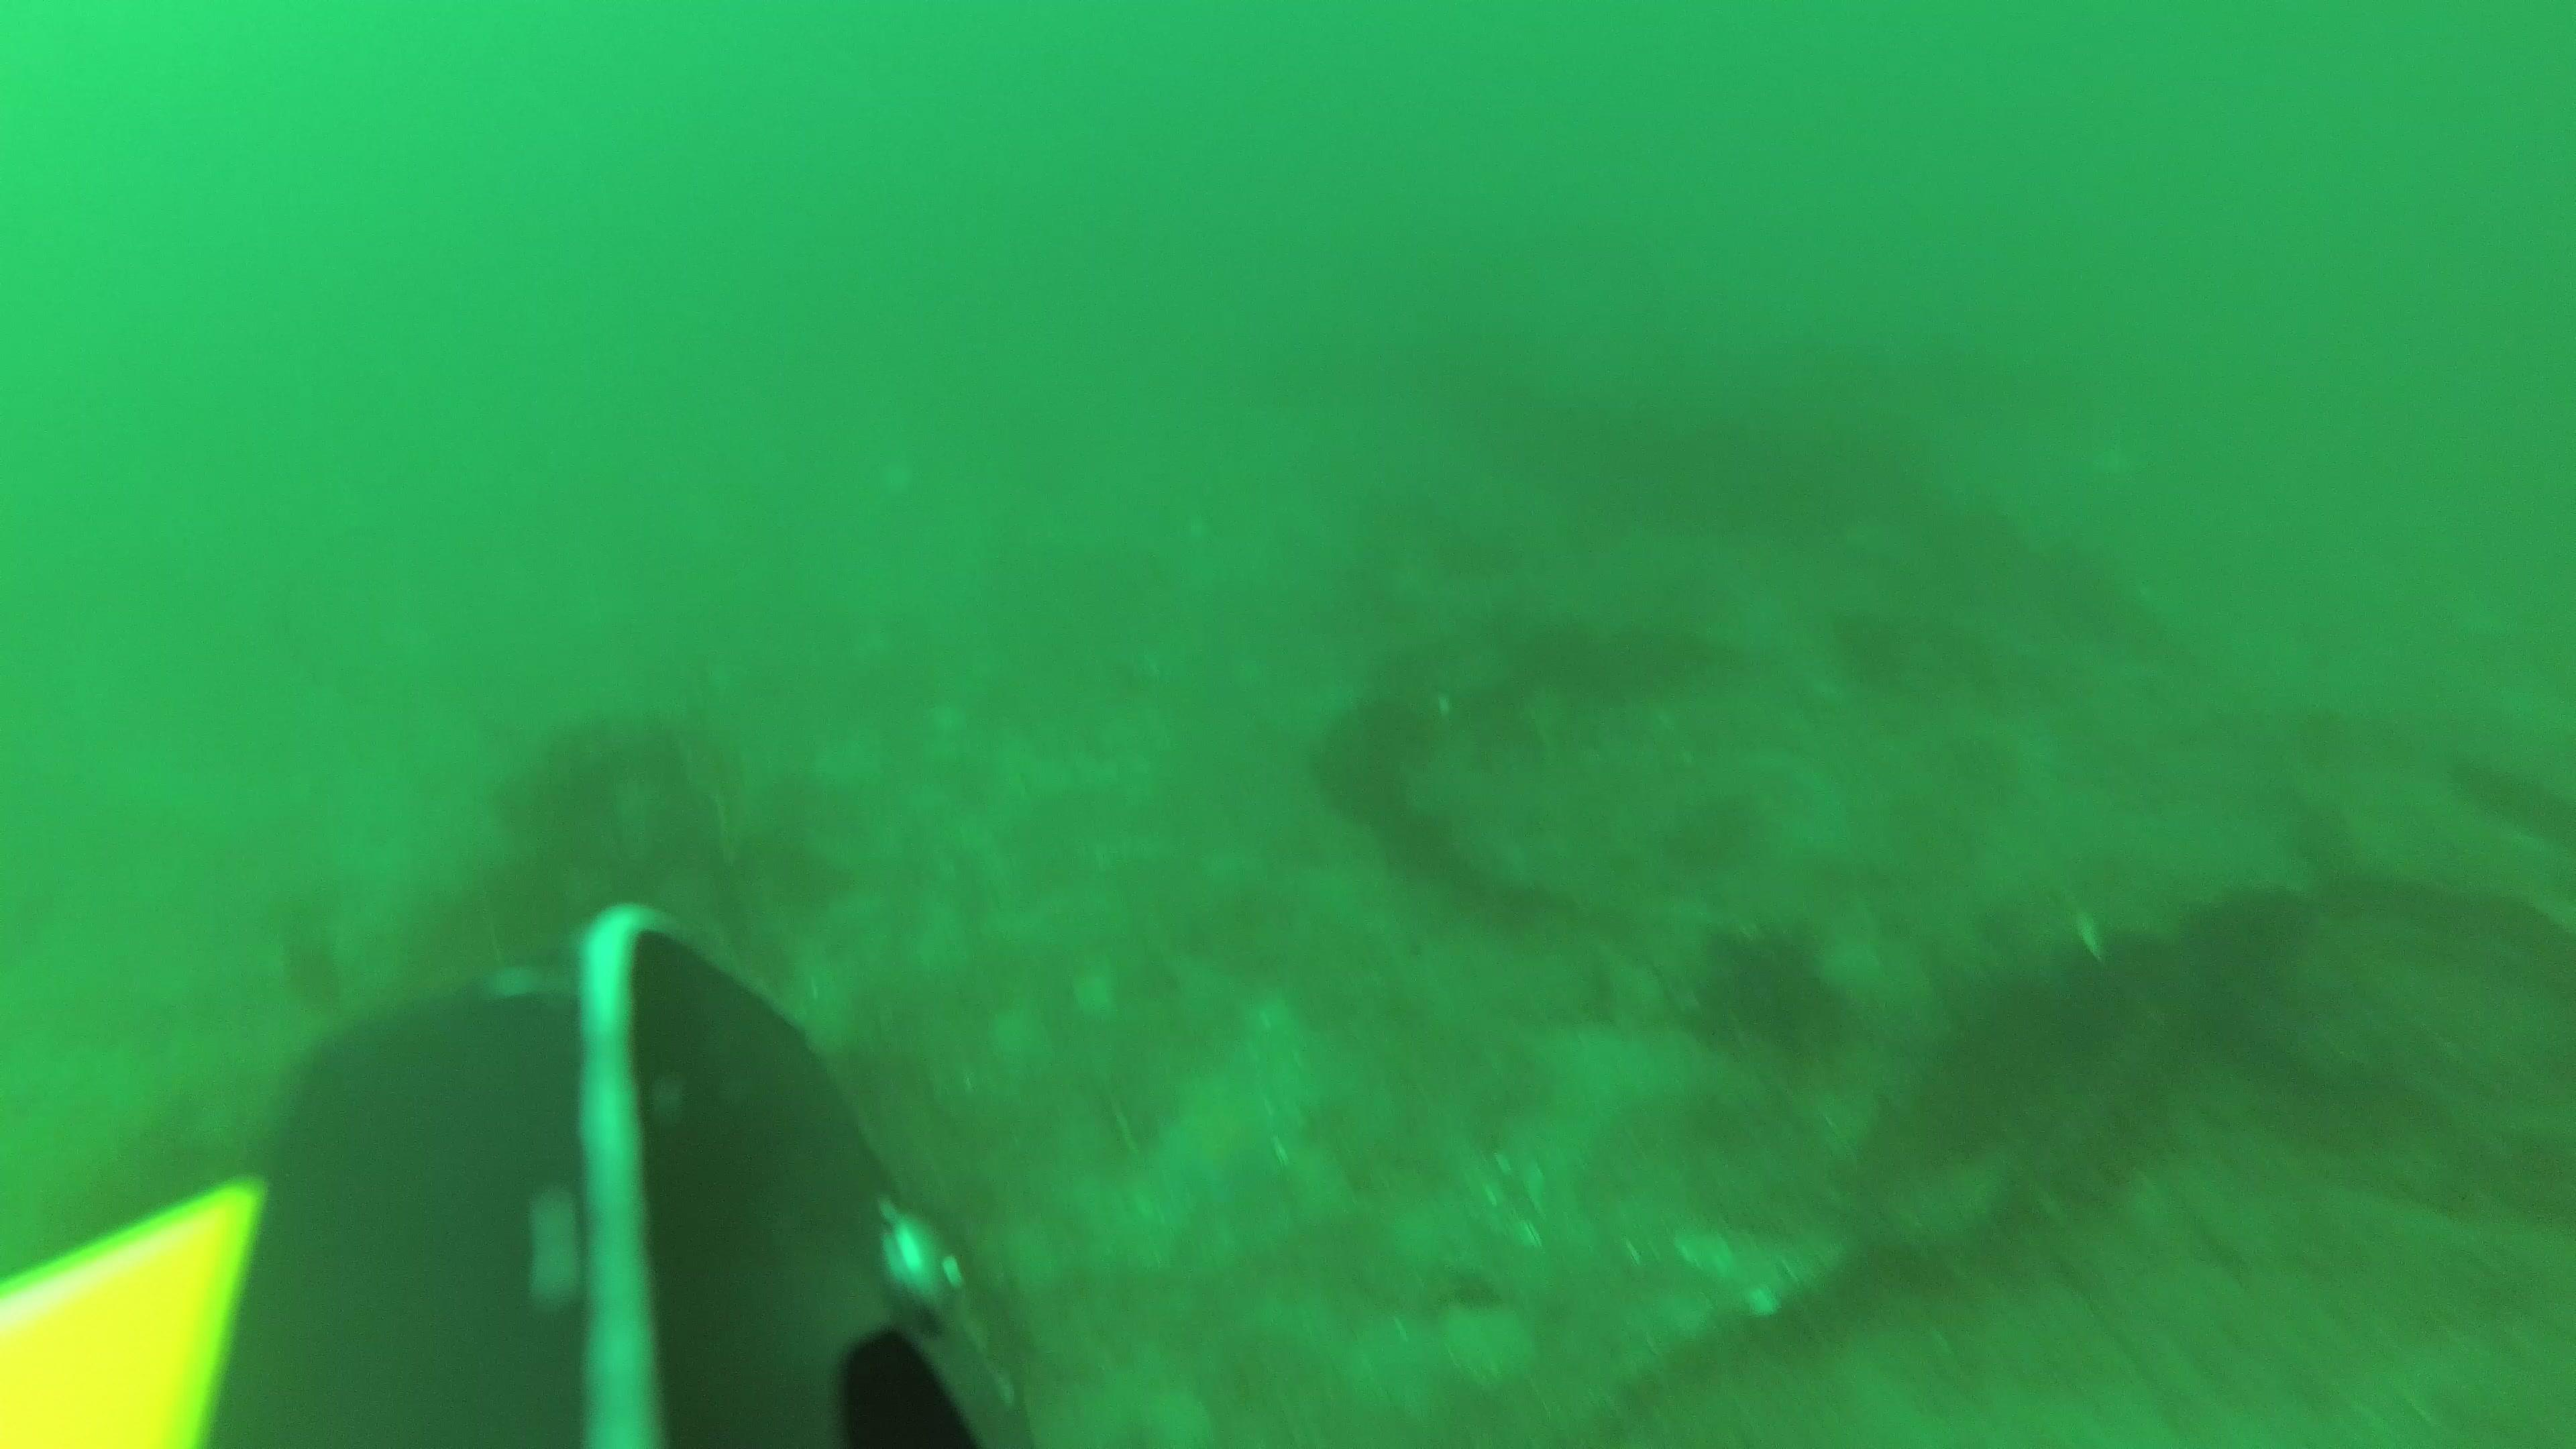scallop: (1438, 1297, 1539, 1389)
starfish: (1152, 1074, 1283, 1201)
